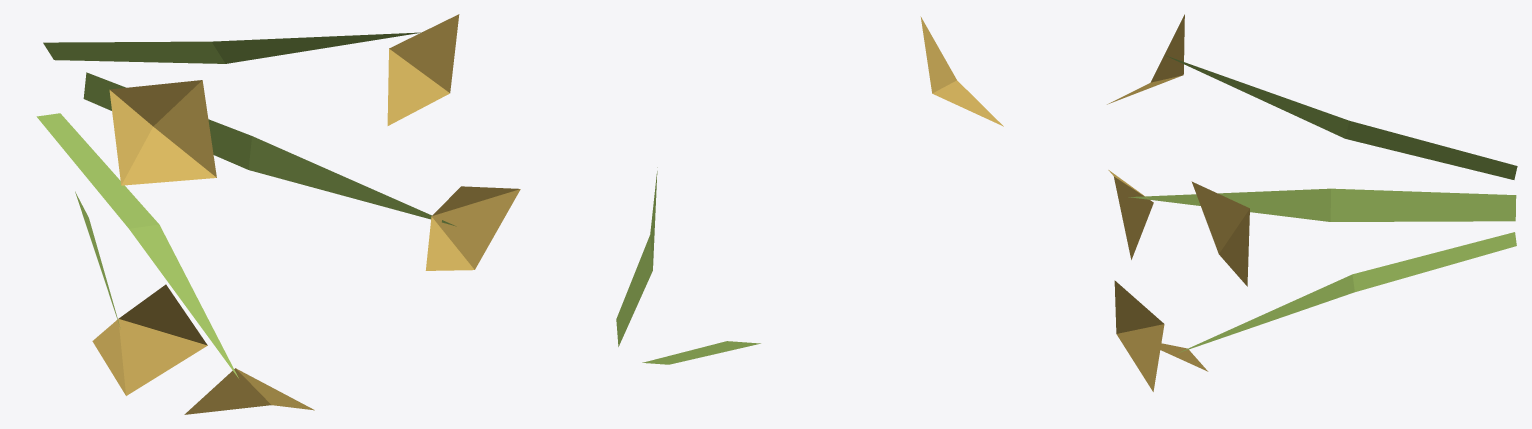
The model's file is grass2.gltf.
The picture shows the model from 3 angles, left to right: view 1: azimuth 30°, elevation 25°; view 2: azimuth 150°, elevation 25°; view 3: azimuth 270°, elevation 25°; orthographic projection. The views are drawn at different scales.
Parts seen in each view (by area): view 1: Grass_1_2; view 2: Grass_1_2; view 3: Grass_1_2.
Boxes of the visible parts, bbox=[...] form: Grass_1_2: bbox=[36, 14, 520, 414]; Grass_1_2: bbox=[616, 16, 1003, 364]; Grass_1_2: bbox=[1107, 14, 1517, 391].
Bounding box in the file's own units: 0.8256 × 0.6563 × 0.74.
